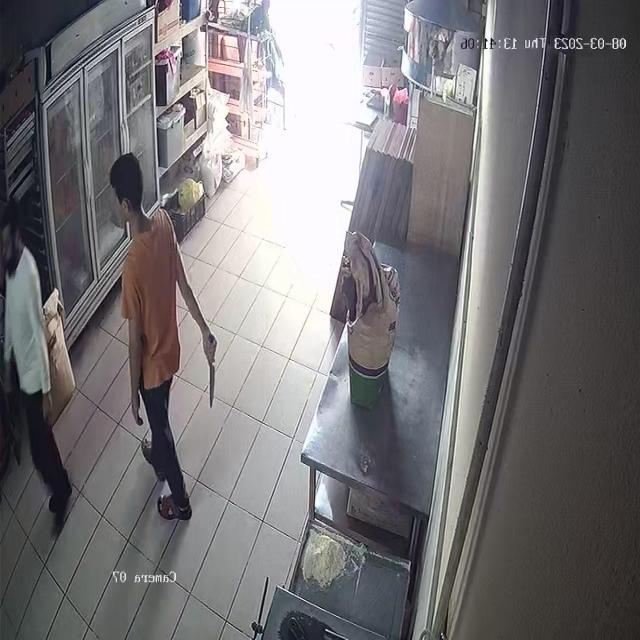Knife: (197, 323, 226, 419)
